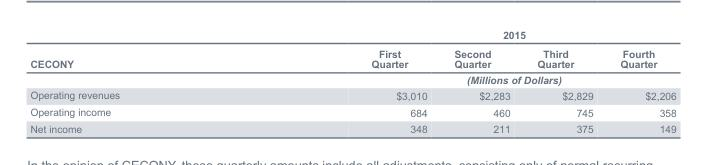table: (29, 28, 675, 133)
table column: (29, 28, 244, 133), (244, 28, 440, 133), (440, 28, 523, 133), (523, 28, 606, 133), (606, 28, 675, 133)
table column header: (29, 28, 675, 87)
table row: (29, 43, 675, 71), (29, 103, 675, 120), (29, 71, 675, 87), (29, 87, 675, 103), (29, 28, 675, 43), (29, 120, 675, 133)
table spanning cell: (29, 28, 244, 87), (244, 71, 675, 87), (244, 28, 675, 43)
